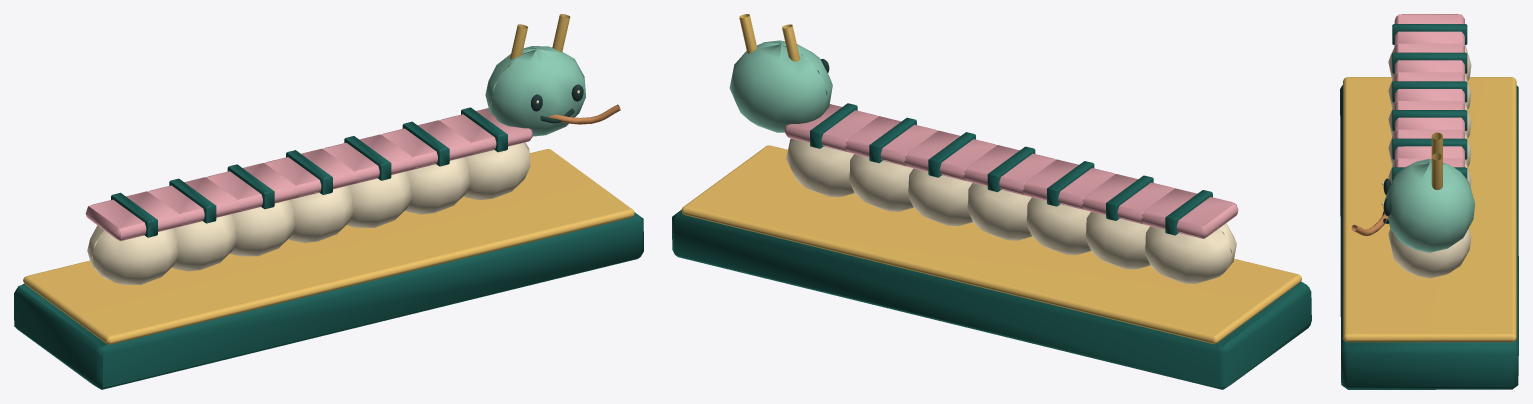
The picture shows the model from 3 angles, left to right: view 1: azimuth 30°, elevation 25°; view 2: azimuth 150°, elevation 25°; view 3: azimuth 270°, elevation 25°; orthographic projection.
Parts seen in each view (by area): view 1: Brass welt, Jade footing, Sushi dragon head, Sushi rice, Sushi rice.006, Sushi rice.005, Sushi rice.003, Sushi rice.001, Sushi rice.002, Sushi rice.004, Salmon sashimi, Salmon sashimi.001 (+12 smaller); view 2: Brass welt, Jade footing, Sushi dragon head, Sushi rice, Sushi rice.006, Sushi rice.004, Sushi rice.001, Sushi rice.002, Sushi rice.003, Sushi rice.005, Salmon sashimi, Salmon sashimi.005 (+12 smaller); view 3: Brass welt, Jade footing, Sushi dragon head, Sushi rice.006, Salmon sashimi, Salmon sashimi.001, Salmon sashimi.002, Salmon sashimi.003, Salmon sashimi.004, Nori ribbon.001, Nori ribbon.002, Nori ribbon.003 (+10 smaller).
Part boxes in pixels (x1,y1,x2,y2): Brass welt: (23,14,634,344); Jade footing: (14,212,643,389); Sushi dragon head: (485,46,585,136); Sushi rice: (87,225,178,284); Sushi rice.006: (463,142,530,200); Sushi rice.005: (405,157,470,214); Sushi rice.003: (288,185,353,242); Sushi rice.001: (172,214,236,271); Sushi rice.002: (230,200,295,256); Sushi rice.004: (347,171,411,227); Salmon sashimi: (85,191,181,241); Salmon sashimi.001: (148,177,239,226); Brass welt: (681,14,1301,343); Jade footing: (672,210,1311,389); Sushi dragon head: (729,40,832,132); Sushi rice: (1145,223,1236,283); Sushi rice.006: (786,138,854,197); Sushi rice.004: (908,168,972,225); Sushi rice.001: (1085,211,1150,269); Sushi rice.002: (1026,197,1091,254); Sushi rice.003: (967,183,1032,240); Sushi rice.005: (849,154,913,211); Salmon sashimi: (1141,188,1238,238); Salmon sashimi.005: (845,116,937,166); Brass welt: (1343,77,1516,342); Jade footing: (1340,85,1518,389); Sushi dragon head: (1384,159,1475,252); Sushi rice.006: (1388,228,1471,278); Salmon sashimi: (1394,14,1464,49); Salmon sashimi.001: (1394,43,1464,77); Salmon sashimi.002: (1394,72,1464,106); Salmon sashimi.003: (1394,101,1464,135); Salmon sashimi.004: (1394,129,1464,163); Nori ribbon.001: (1392,52,1467,73); Nori ribbon.002: (1392,81,1467,102); Nori ribbon.003: (1392,110,1467,130).
Size of the model in its own units: 1.69 by 0.6448 by 0.4744.
